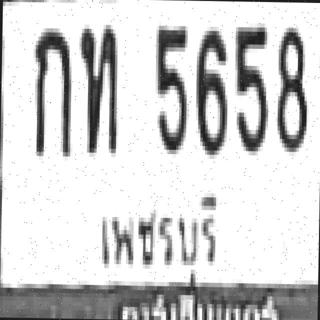A01: (31, 23, 70, 156)
A23: (77, 20, 118, 153)
N05: (152, 21, 188, 150), (231, 23, 267, 151)
N06: (192, 22, 226, 150)
N08: (274, 24, 306, 148)
P44: (88, 180, 230, 286)
